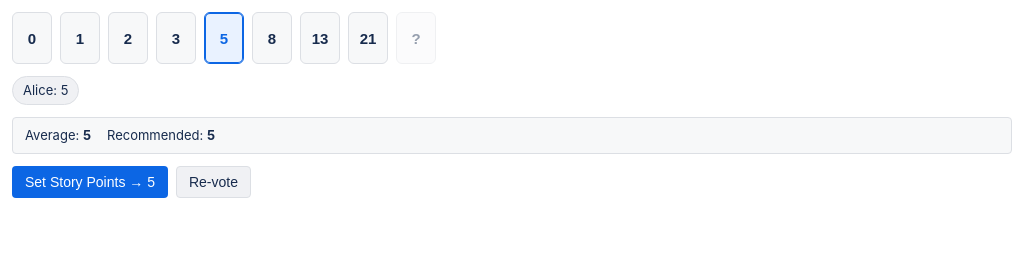
it: ScrumPokerApp revealed-state controls, consensus override, write-back, and clipboard fallback (R13) › switches immediately in place to missing-field warning + Copy Score (<targetScore>) when applyStoryPoints returns "missing-field"
The width and height of the screenshot is (1024, 264).
Click the button with test id "apply-story-points-button".
click(90, 182)  # box [12, 166, 168, 198]
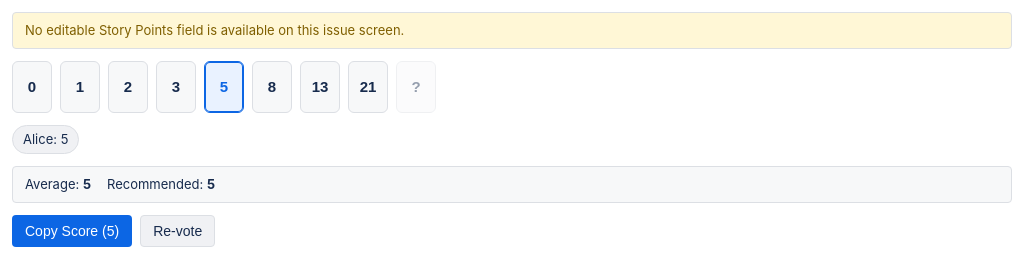
Expected: the text with test id "missing-field-warning" reads "No editable Story Points field is available on this issue screen.", [25, 22, 404, 38]
Expected: the button with test id "apply-story-points-button" is gone
Expected: the button with test id "copy-score-button" reads "Copy Score (5)"
Click the button with test id "copy-score-button".
click(72, 230)  # box [12, 214, 132, 246]
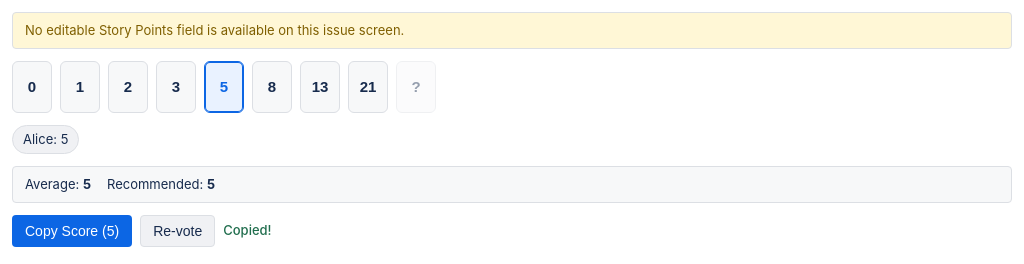
Expected: the message with test id "copy-feedback" reads "Copied!", [223, 222, 272, 238]
